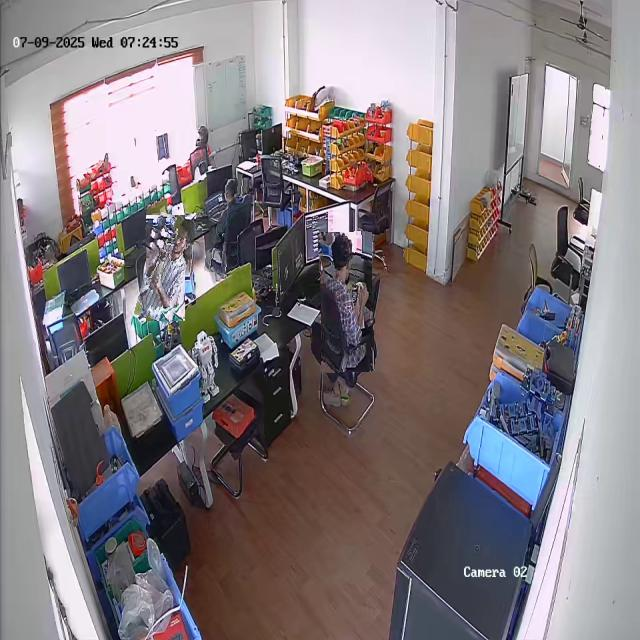person: (319, 231, 374, 373), (140, 214, 192, 322), (207, 177, 252, 275)
